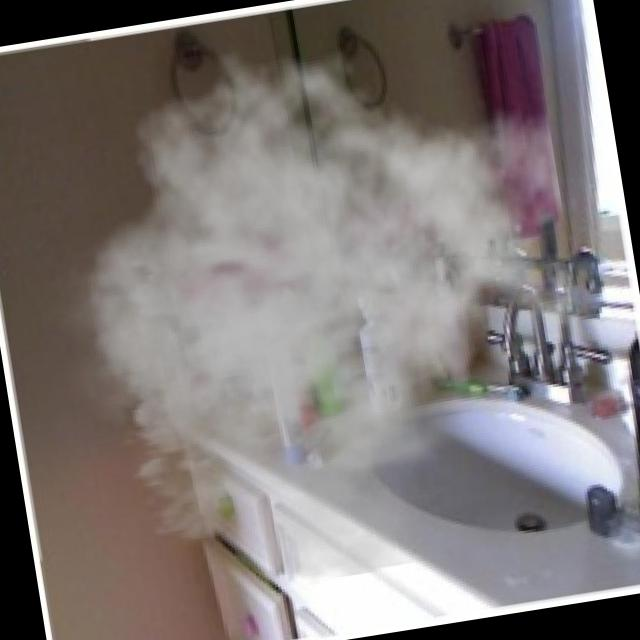Smoke: (2, 0, 615, 620)
